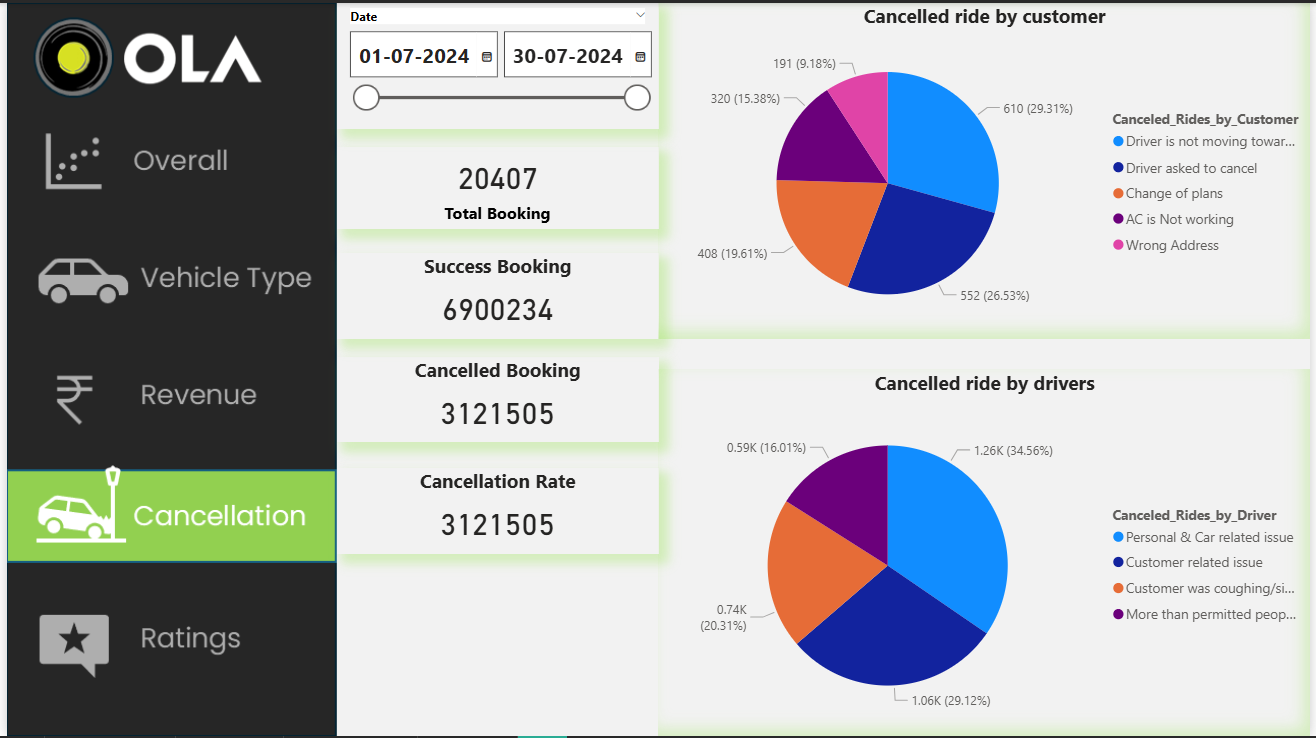

What the dashboard file says about the page in this screenshot:
{"tool":"powerbi","page":{"name":"Cancellation","canvas":[1280,720],"ordinal":3},"visuals":[{"type":"pieChart","title":"Cancelled ride by customer","fields":{"Category":["July.Canceled_Rides_by_Customer"],"Y":["CountNonNull(July.Canceled_Rides_by_Customer)"]},"box":[639.5,0,640.8,329.3],"z":0},{"type":"pieChart","title":"Cancelled ride by drivers","fields":{"Category":["July.Canceled_Rides_by_Driver"],"Y":["CountNonNull(July.Canceled_Rides_by_Driver)"]},"box":[639.5,359.5,640.8,360.9],"z":1},{"type":"slicer","fields":{"Values":["July.Date"]},"box":[323.8,0,315.6,123.5],"z":2},{"type":"card","fields":{"Values":["CountNonNull(July.Booking_ID)"]},"box":[323.8,141.3,315.6,81],"z":3},{"type":"card","title":"Success Booking","fields":{"Values":["Sum(July.Booking_Value)"]},"box":[323.8,245.6,315.6,83.7],"z":4},{"type":"card","title":"Cancelled Booking","fields":{"Values":["Sum(July.Booking_Value)"]},"box":[323.8,347.2,315.6,83.7],"z":5},{"type":"card","title":"Cancellation Rate","fields":{"Values":["Sum(July.Booking_Value)"]},"box":[323.8,456.9,315.6,83.7],"z":6}]}

Visuals, with their boxes on the page's 1280x720 design canvas (x1, y1, x2, y2). These are canvas units, not pixel positions in the 1316x738 screenshot, which may show the page scaled, cropped or inside an application window:
"Cancelled ride by customer" pieChart: pyautogui.locateOnScreen(640, 0, 1280, 329)
"Cancelled ride by drivers" pieChart: pyautogui.locateOnScreen(640, 360, 1280, 720)
slicer - July.Date: pyautogui.locateOnScreen(324, 0, 639, 124)
card - CountNonNull(July.Booking_ID): pyautogui.locateOnScreen(324, 141, 639, 222)
"Success Booking" card: pyautogui.locateOnScreen(324, 246, 639, 329)
"Cancelled Booking" card: pyautogui.locateOnScreen(324, 347, 639, 431)
"Cancellation Rate" card: pyautogui.locateOnScreen(324, 457, 639, 541)
